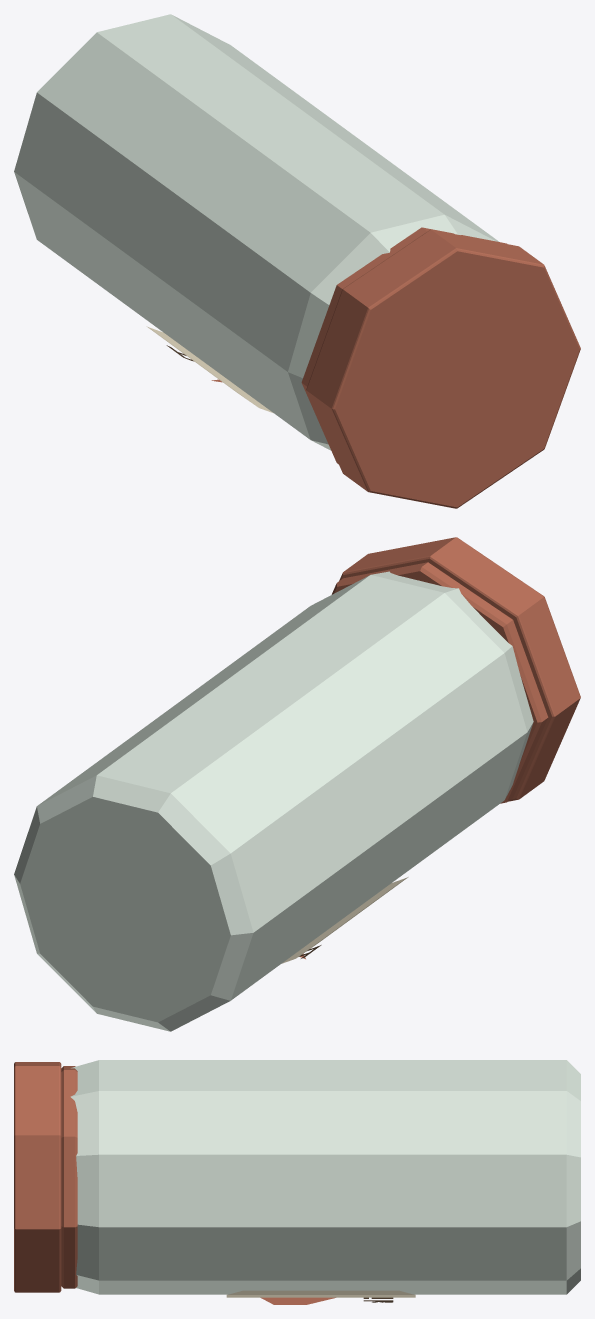
The model's file is paprika.glb.
3 renders of one model, top to bottom at view 1: azimuth 30°, elevation 25°; view 2: azimuth 150°, elevation 25°; view 3: azimuth 270°, elevation 25°, orthographic. The views are drawn at different scales.
Parts seen in each view (by area): view 1: paprika; view 2: paprika; view 3: paprika.
Boxes of the visible parts, <box> form: paprika: <box>14,14,580,508</box>; paprika: <box>14,537,580,1031</box>; paprika: <box>14,1060,580,1304</box>.
Bounding box in the file's own units: 0.052 × 0.053 × 0.12.
